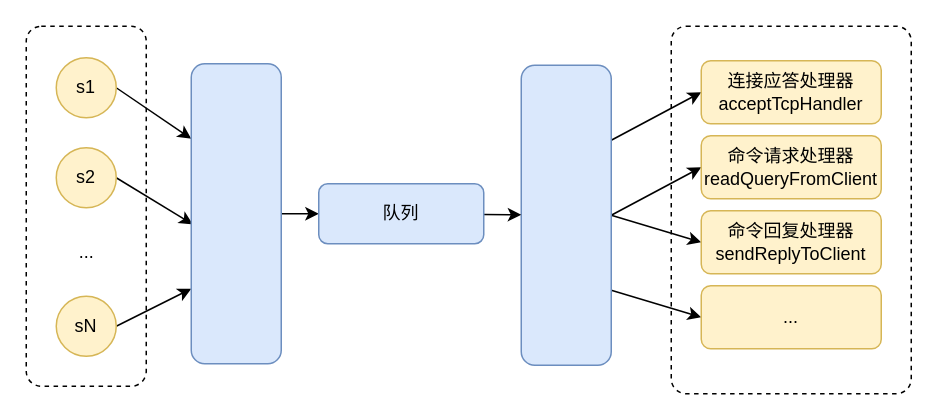
Some shapes in this 938 by 420 pixel diagram are drawn without their labels. The centre of each missing label's shape, as x and y in pixels:
I/O 多 路 复 用 程 序: (235,213)
文 件 事 件 分 派 器: (565,214)
